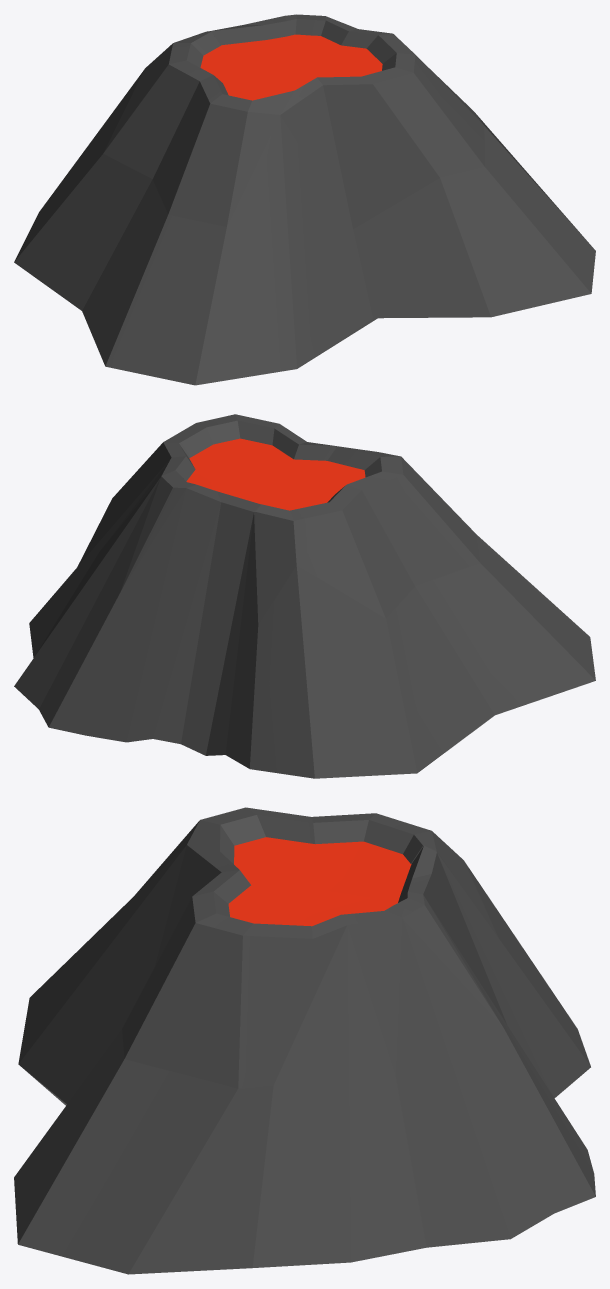
Rendered from volcanoLowPoly02.fbx.
3 renders of one model, top to bottom at view 1: azimuth 30°, elevation 25°; view 2: azimuth 150°, elevation 25°; view 3: azimuth 270°, elevation 25°, orthographic. The views are drawn at different scales.
Parts seen in each view (by area): view 1: Plane.003_Plane.005; view 2: Plane.003_Plane.005; view 3: Plane.003_Plane.005.
Boxes of the visible parts, x1=… form: Plane.003_Plane.005: x1=14, y1=14, x2=595, y2=385; Plane.003_Plane.005: x1=14, y1=414, x2=595, y2=778; Plane.003_Plane.005: x1=14, y1=807, x2=595, y2=1274.
Bounding box in the file's own units: 254 × 107 × 204.
1 material, 1 textured.
